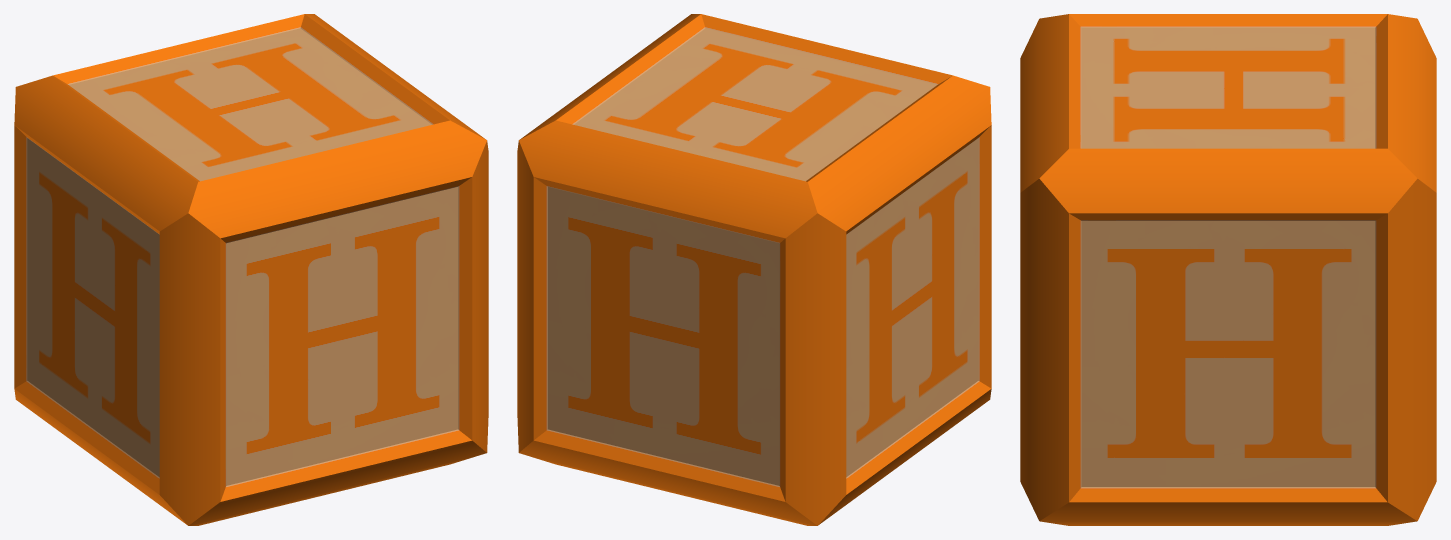
3 views of the same model, side by side, from view 1: azimuth 30°, elevation 25°; view 2: azimuth 150°, elevation 25°; view 3: azimuth 270°, elevation 25° (orthographic). The views are drawn at different scales.
Visible parts, largest first — view 1: pCube1; view 2: pCube1; view 3: pCube1.
Part boxes in pixels (x1,y1,x2,y2): pCube1: (14,14,488,525); pCube1: (517,14,991,525); pCube1: (1020,14,1436,525).
Size of the model in its own units: 0.4114 by 0.4114 by 0.4114.
Materials: 1 (1 with a texture image).
